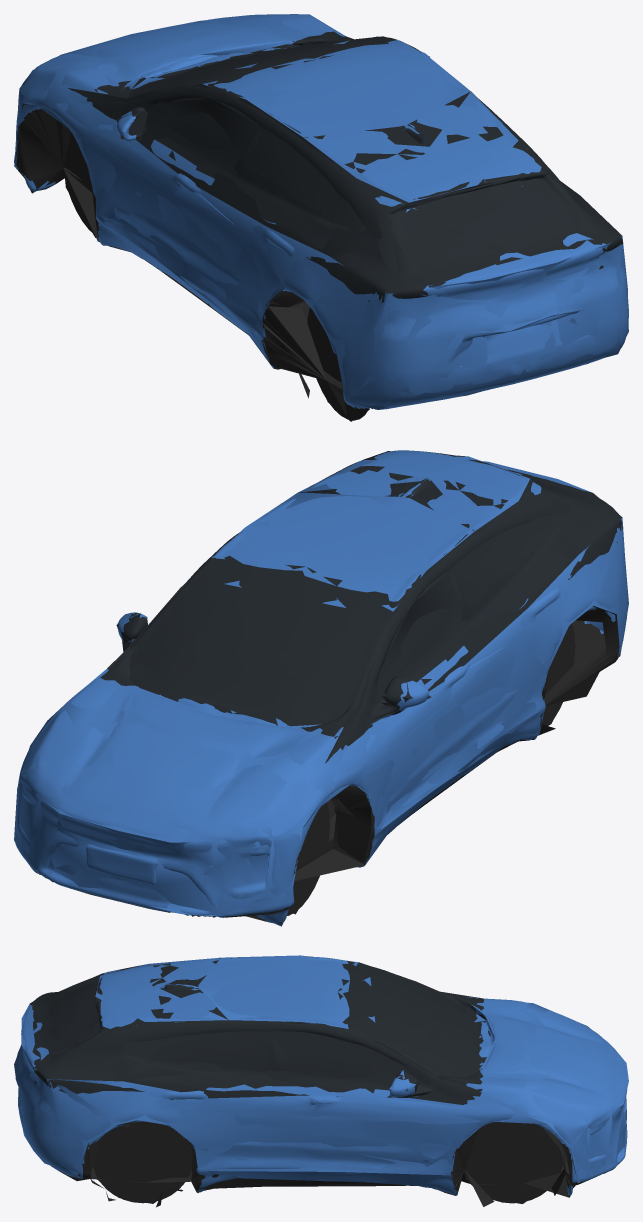
The model's file is polestar-4.glb.
3 renders of one model, top to bottom at view 1: azimuth 30°, elevation 25°; view 2: azimuth 150°, elevation 25°; view 3: azimuth 270°, elevation 25°, orthographic. The views are drawn at different scales.
Parts seen in each view (by area): view 1: body, far; view 2: body, far; view 3: body, far.
Boxes of the visible parts, x1=… form: body: x1=14, y1=14, x2=628, y2=420; far: x1=14, y1=14, x2=628, y2=421; body: x1=14, y1=450, x2=627, y2=924; far: x1=14, y1=451, x2=628, y2=926; body: x1=15, y1=956, x2=627, y2=1207; far: x1=14, y1=955, x2=628, y2=1206.
Bounding box in the file's own units: 2.11 × 1.6 × 4.84.
